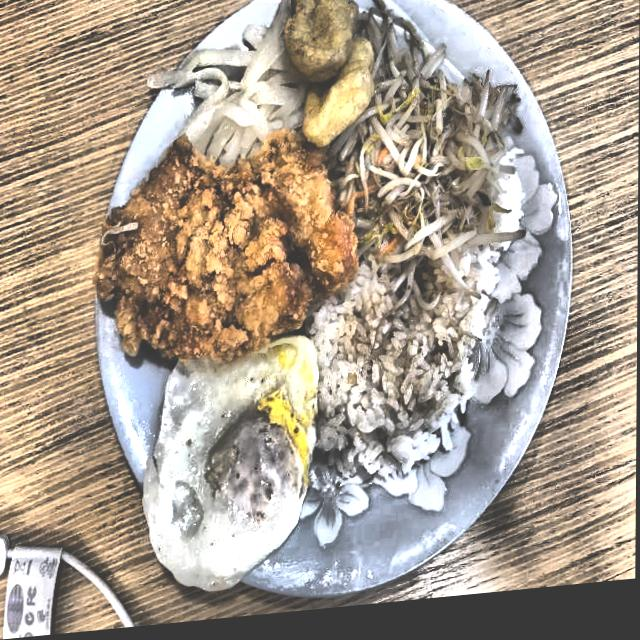Food: (95, 122, 359, 374), (140, 341, 317, 602), (323, 297, 470, 482), (370, 76, 499, 280), (285, 0, 377, 153)
